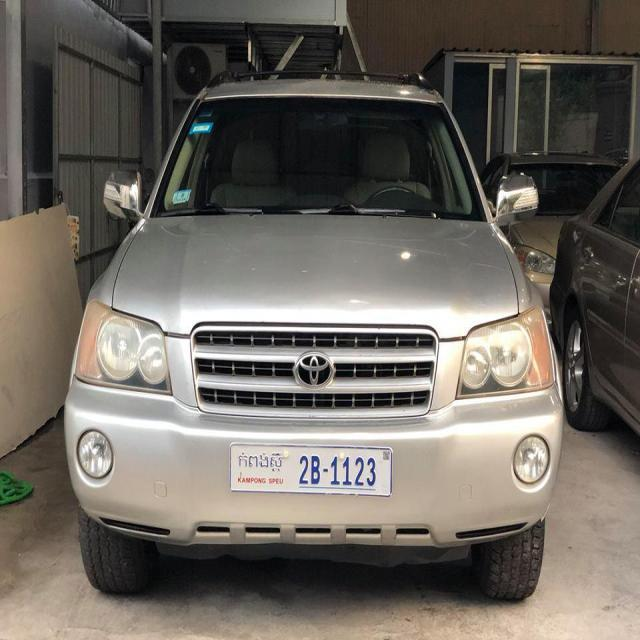Kampong_Speu: (238, 450, 282, 472)
